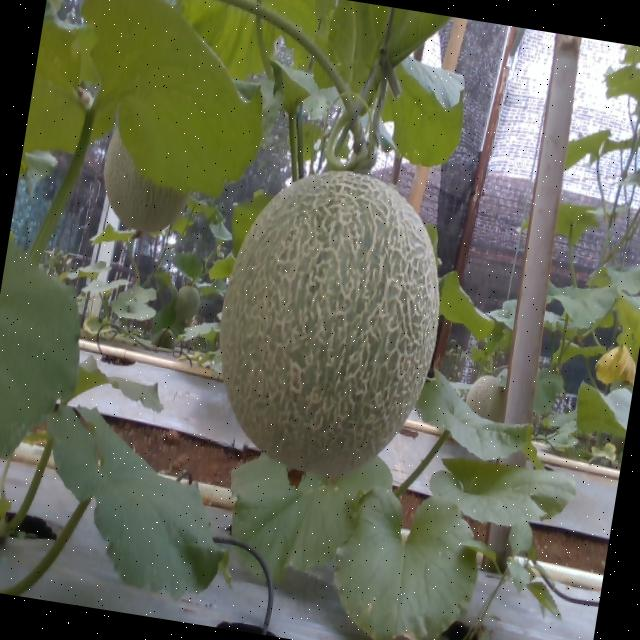melon: (220, 171, 440, 477)
